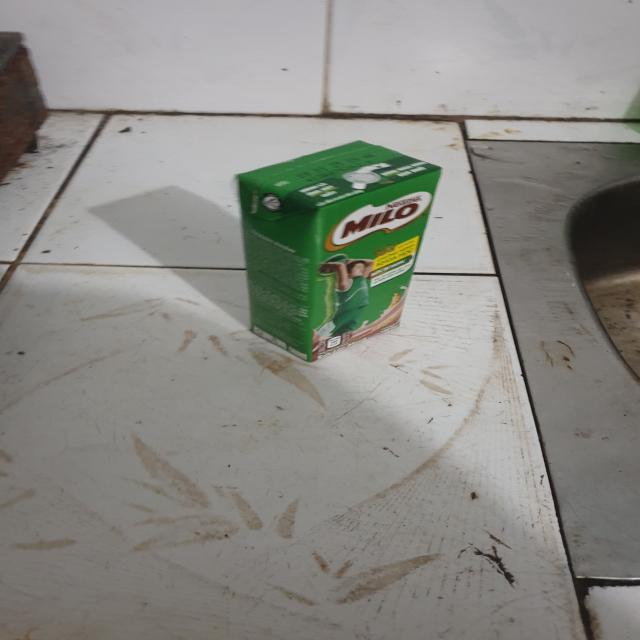Milo: (235, 144, 441, 363)
